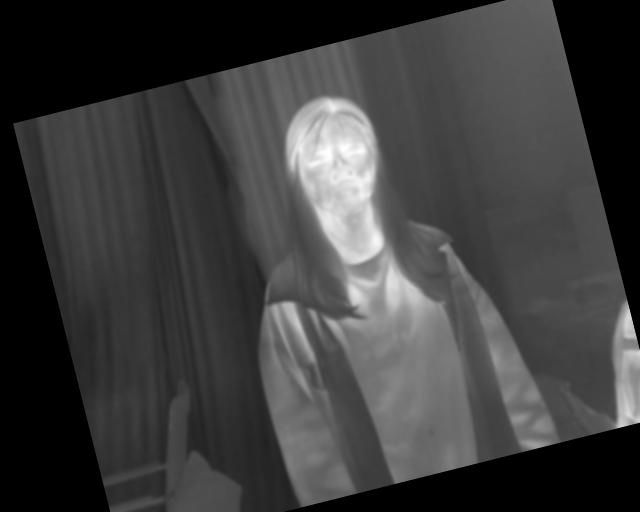face: (273, 86, 390, 228)
